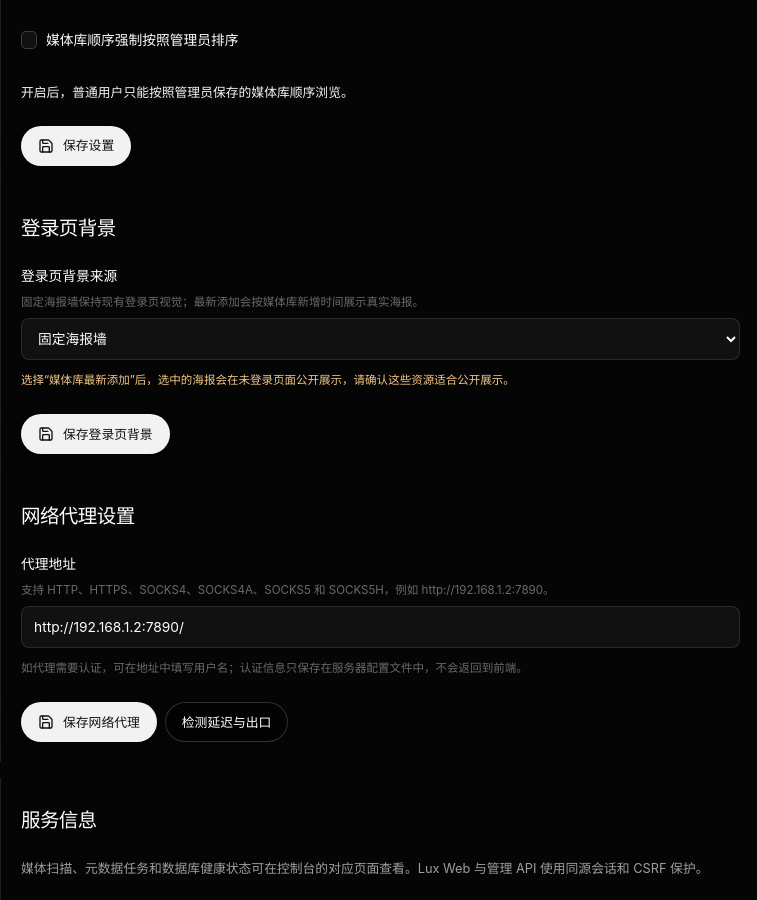
Scenario: AdminSettingsPage network proxy › tests the four network targets and shows egress details
(page scrolled)
Click the button "检测延迟与出口" at (227, 722), box x1=165 y1=702 x2=288 y2=742
(page scrolled)
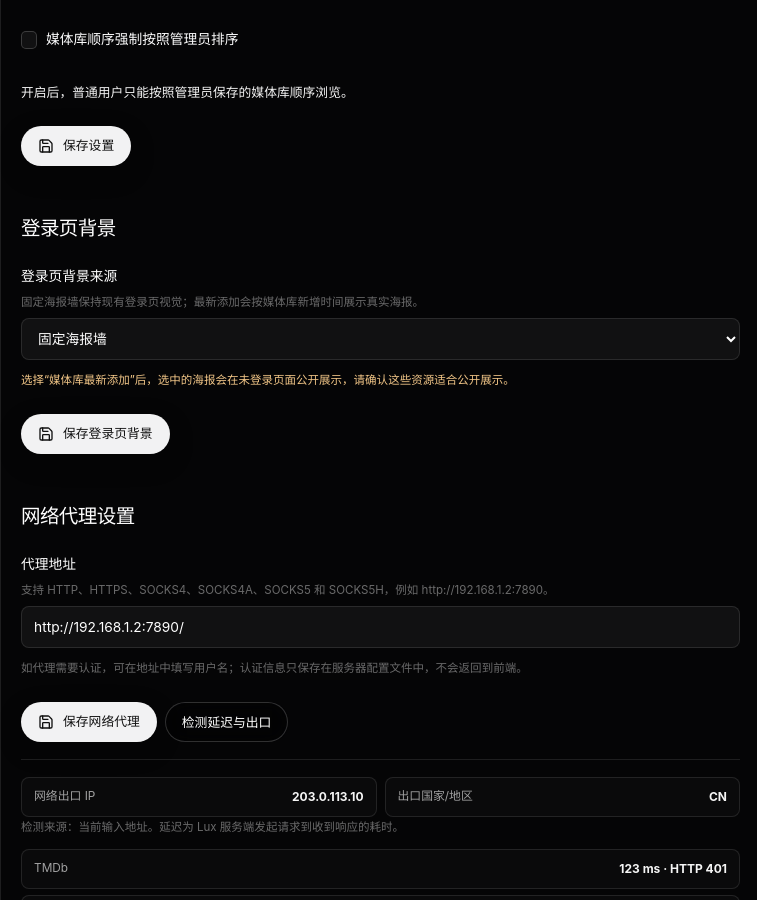
expect the text "203.0.113.10" is shown: met, box x1=292 y1=788 x2=364 y2=806
expect the text "CN" is shown: met, box x1=709 y1=788 x2=727 y2=806
expect the text "TMDb" is shown: met, box x1=34 y1=860 x2=68 y2=878
